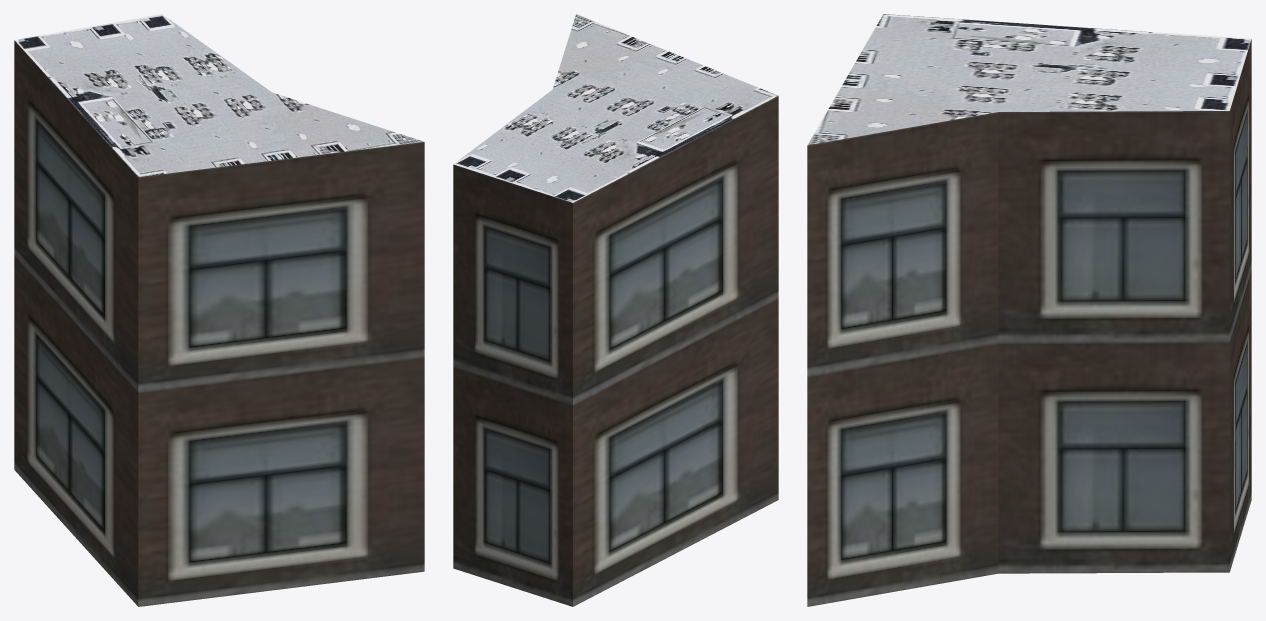
File: ResTex__3519.fbx
3 renders of one model, left to right at view 1: azimuth 30°, elevation 25°; view 2: azimuth 150°, elevation 25°; view 3: azimuth 270°, elevation 25°, orthographic. The views are drawn at different scales.
Parts seen in each view (by area): view 1: CityEngineMaterial_16_m, CityEngineMaterial_15_m; view 2: CityEngineMaterial_16_m, CityEngineMaterial_15_m; view 3: CityEngineMaterial_16_m, CityEngineMaterial_15_m.
Part boxes in pixels (box(x1,y1,x2,y2)): CityEngineMaterial_16_m: box(14, 40, 424, 606); CityEngineMaterial_15_m: box(14, 14, 423, 176); CityEngineMaterial_16_m: box(453, 96, 778, 606); CityEngineMaterial_15_m: box(453, 14, 778, 202); CityEngineMaterial_16_m: box(807, 39, 1251, 606); CityEngineMaterial_15_m: box(808, 14, 1251, 145).
Bounding box in the file's own units: 3.66 × 6 × 5.23.
2 materials, 2 textured.
